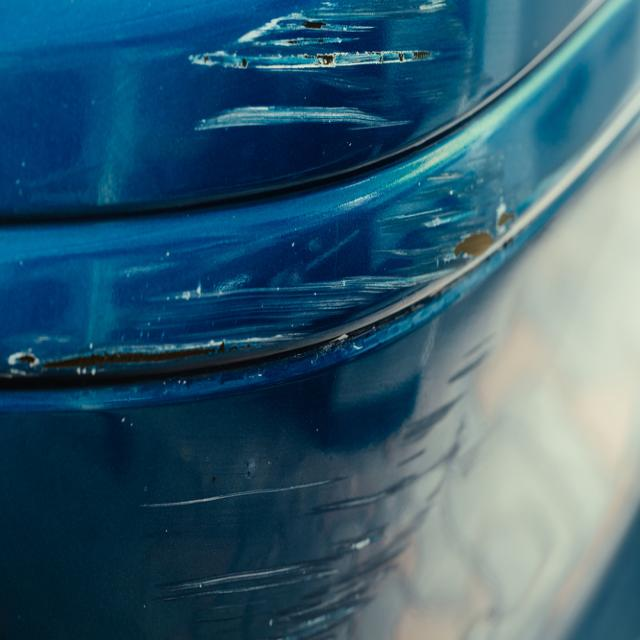scratch: (0, 0, 515, 640)
